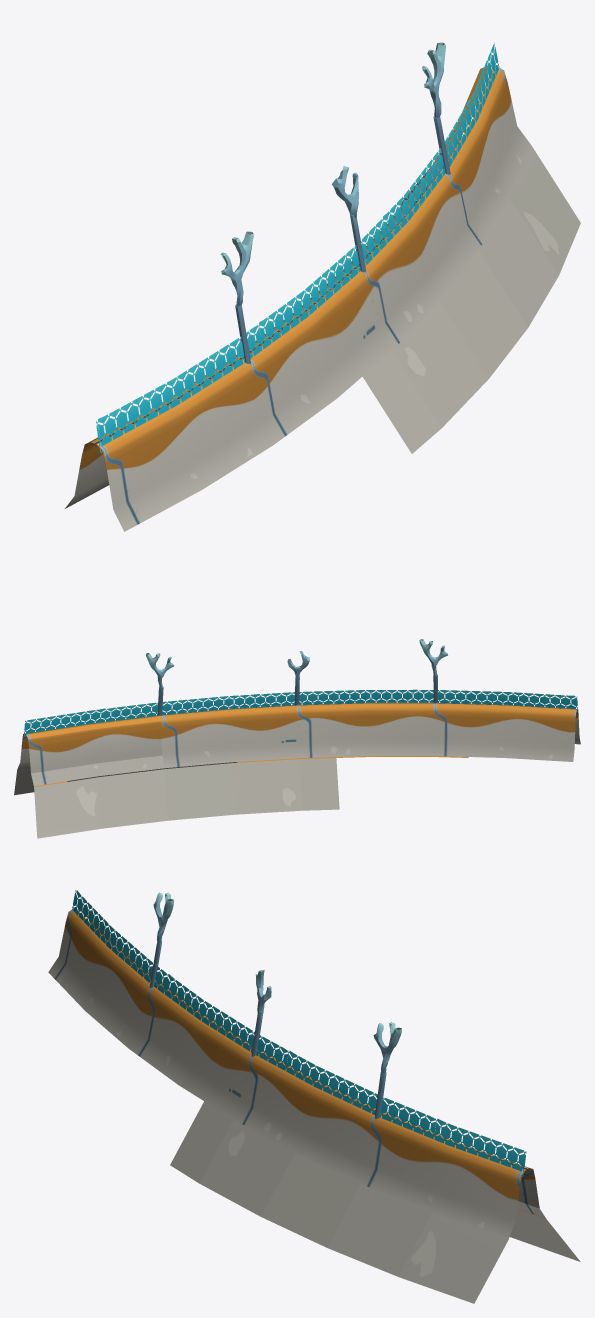
Rendered from S_Wall_04.fbx.
3 views of the same model, one above another, from view 1: azimuth 30°, elevation 25°; view 2: azimuth 150°, elevation 25°; view 3: azimuth 270°, elevation 25° (orthographic). The views are drawn at different scales.
Visible parts, largest first — view 1: S_Wall_04; view 2: S_Wall_04; view 3: S_Wall_04.
Boxes of the visible parts, x1,y1,x2,y2 form: S_Wall_04: [65, 42, 580, 531]; S_Wall_04: [14, 639, 580, 838]; S_Wall_04: [48, 890, 580, 1303].
Size of the model in its own units: 1314 by 424 by 1058.
1 material, 1 textured.
